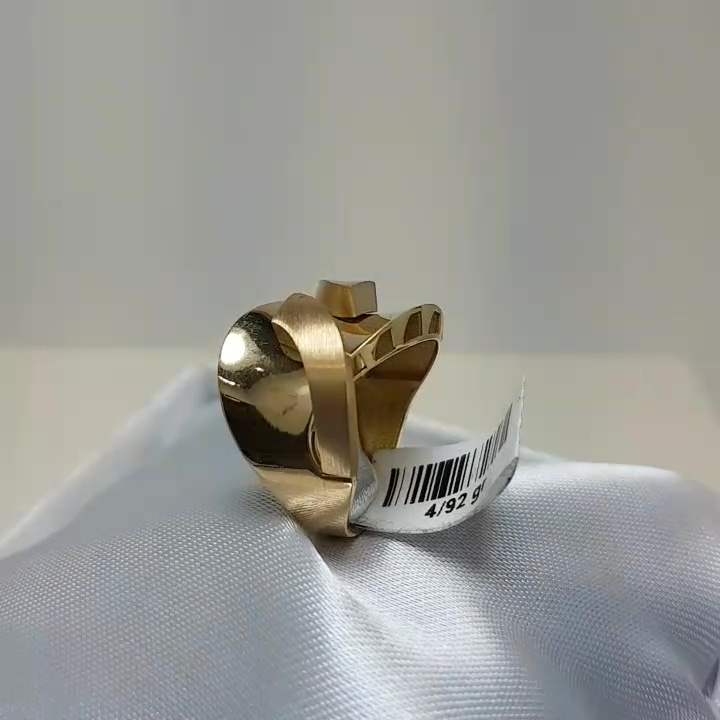Ring 4: (207, 259, 463, 546)
